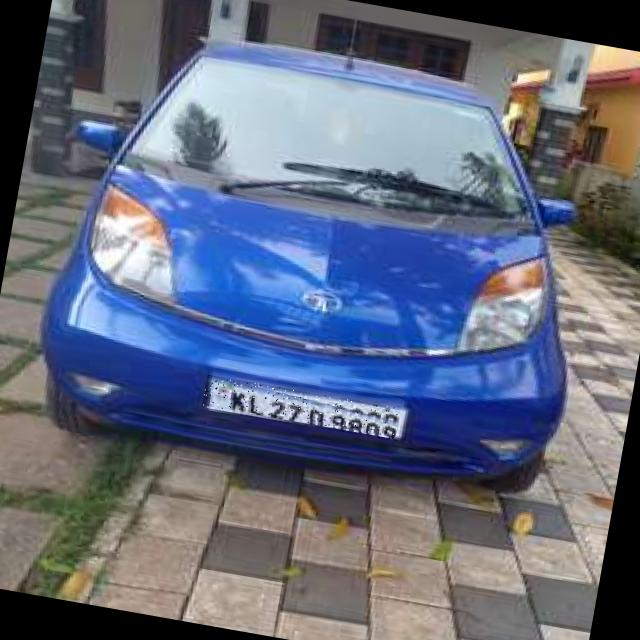Plate: (203, 375, 401, 440)
